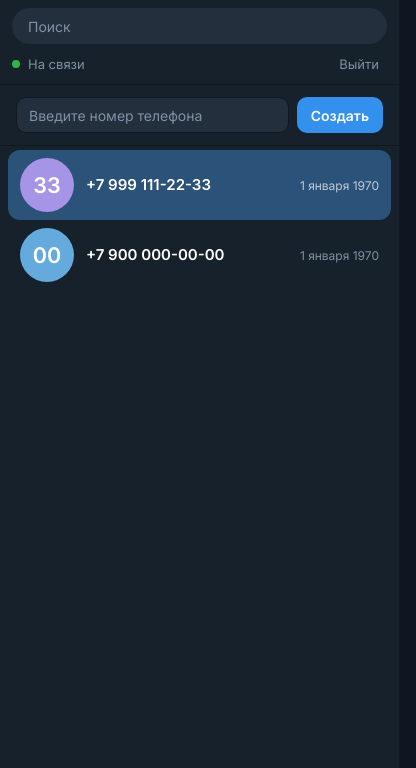
Sidebar › filters chats by search query
This screenshot has width=416, height=768.
In the search field labelled "Поиск": (200, 26) [12,8,387,44], type "900"
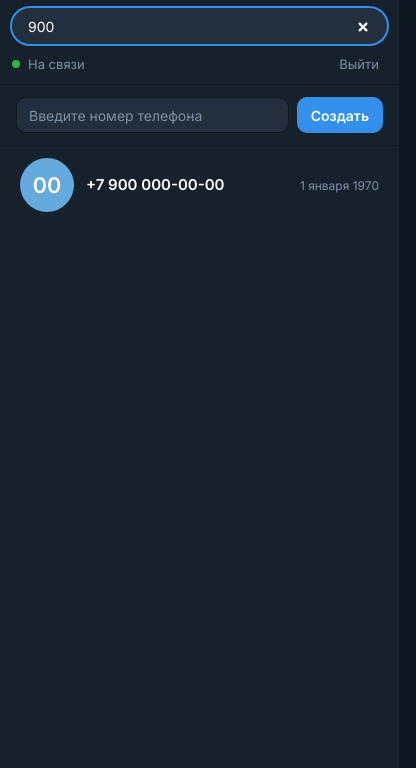
Expected: the text "+7 900 000-00-00" is shown, [86,174,224,194]
Now the button "+7 999 111-22-33" is gone
